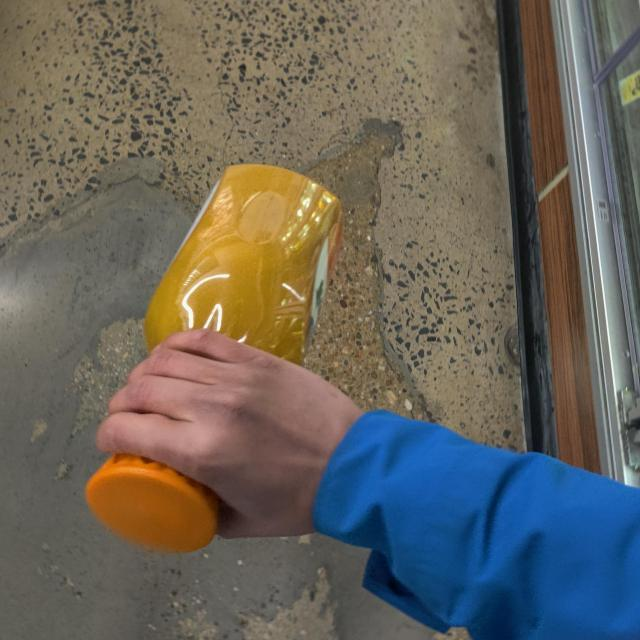Juice: (77, 168, 345, 558)
